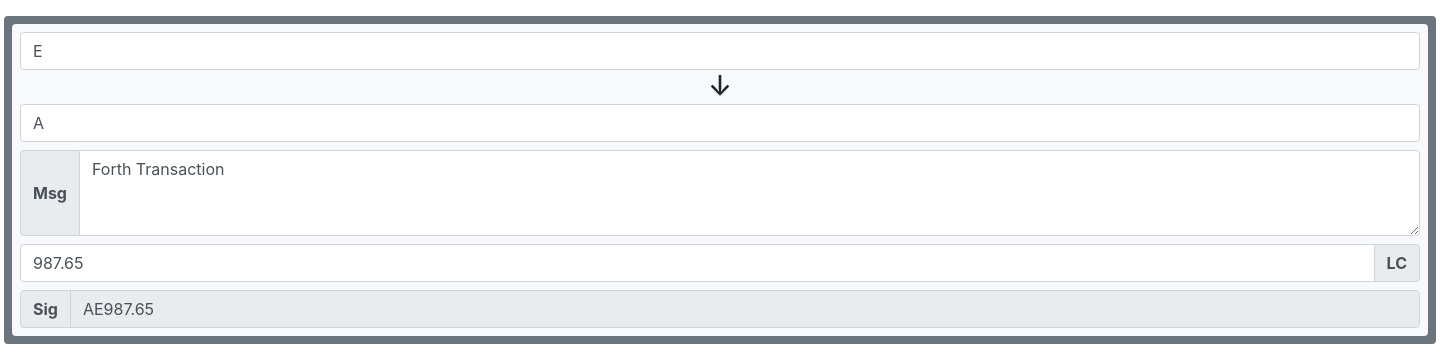
it: middle block › change of From input causes propagation
This screenshot has width=1440, height=361.
Type "1" into the field named "Block Transactions From" at (720,51), box [20, 32, 1420, 70]
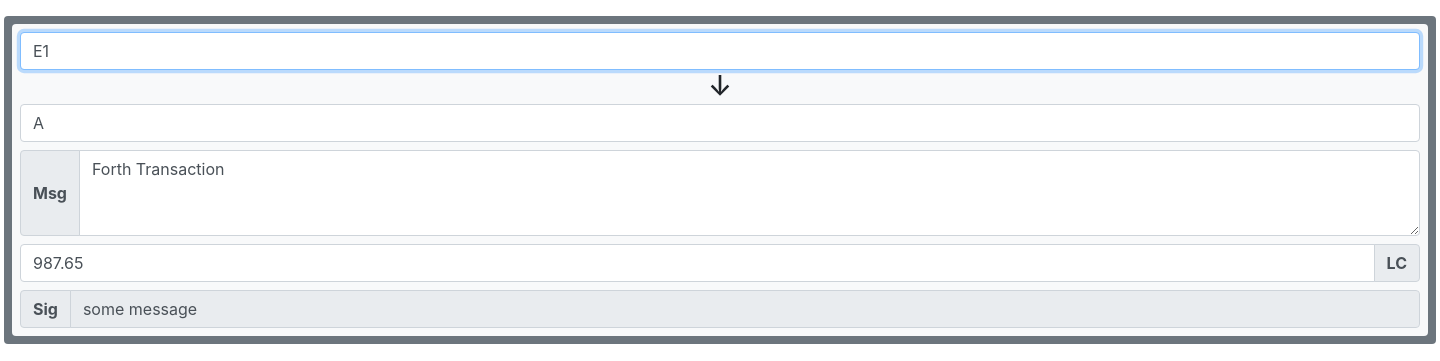
Now the field named "Block Transactions Signature" holds "some message", box [70, 290, 1420, 328]
